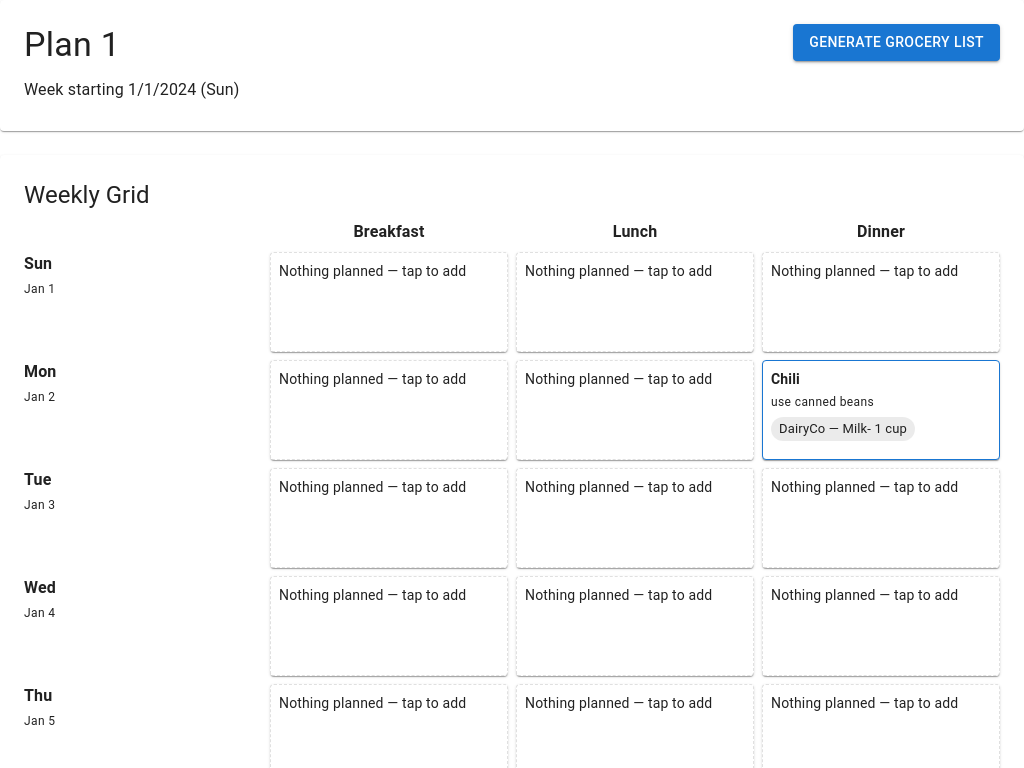
Test case: meal plan detail page › slots, suggestions, and nutrition › does not remove a slot when the confirm is cancelled
Click the text "Chili".
click(785, 379)  # box [771,371,800,387]
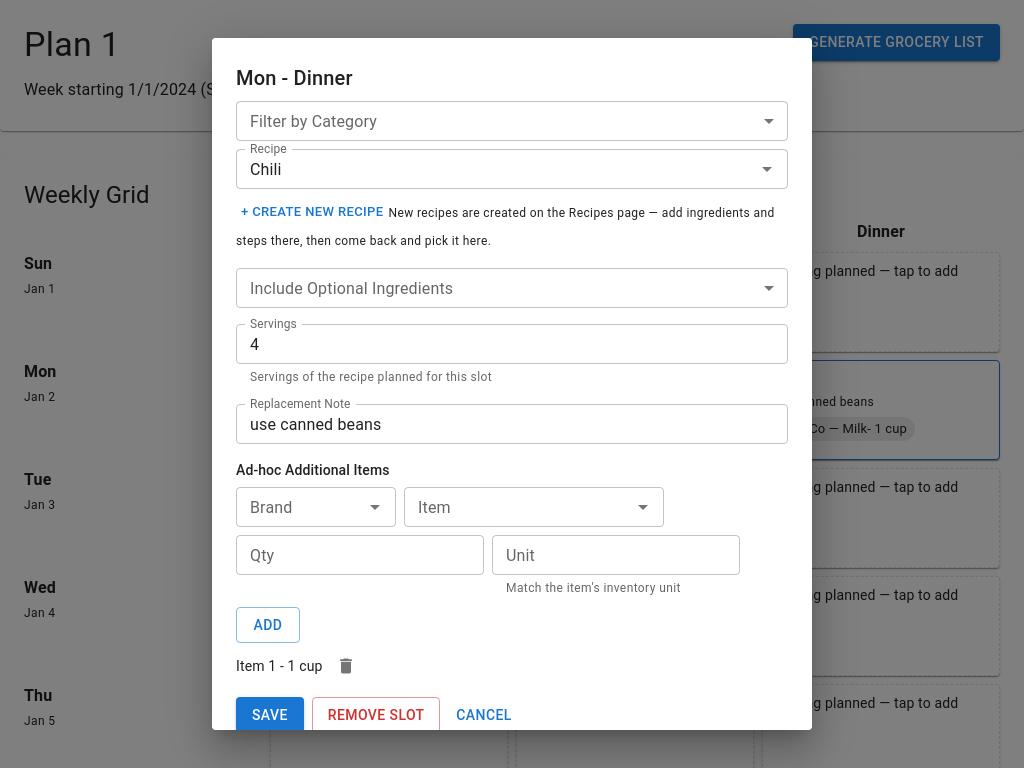
Check: the heading "Mon - Dinner" is shown, box [236,66,353,90]
Click the button "Remove Slot".
click(376, 716)  # box [312,697,440,734]
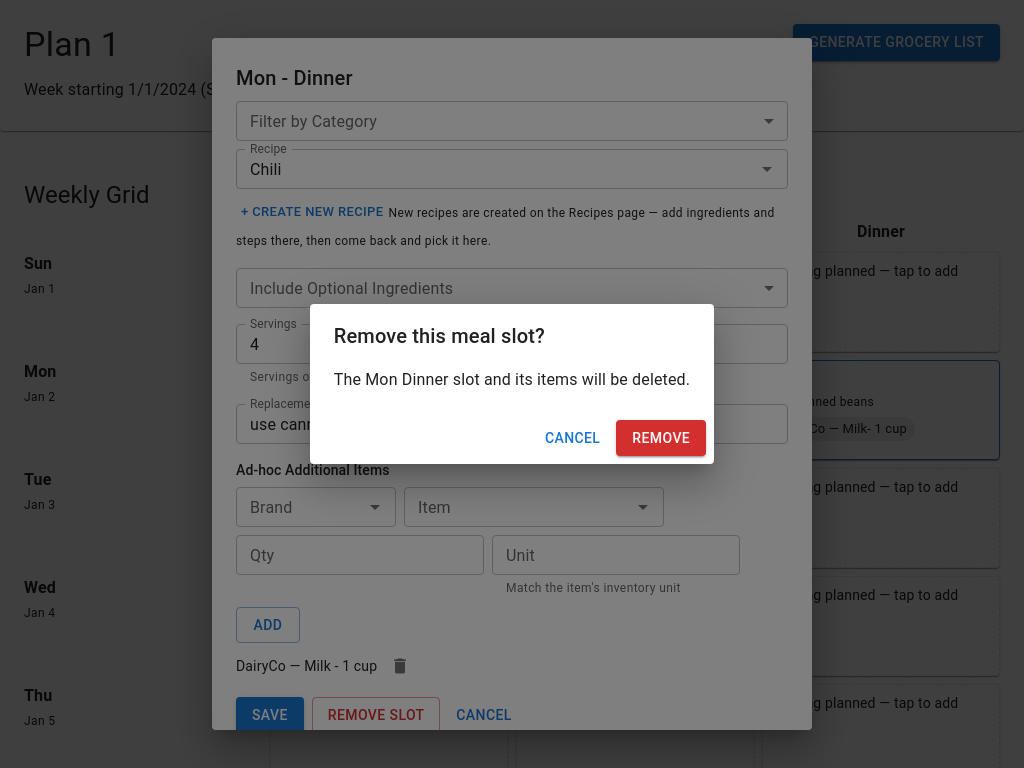
Check: the heading "Remove this meal slot?" is shown, box [334,324,545,348]
Click the button "Cancel".
click(573, 438)  # box [537,420,608,456]
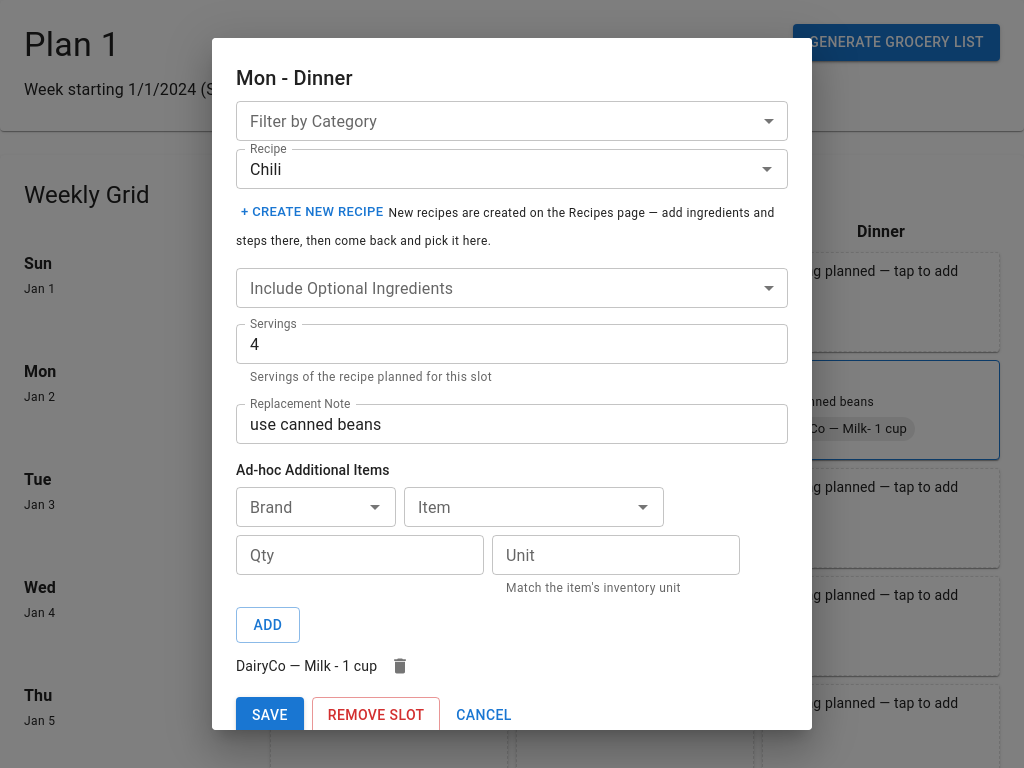
Check: the heading "Remove this meal slot?" is gone
